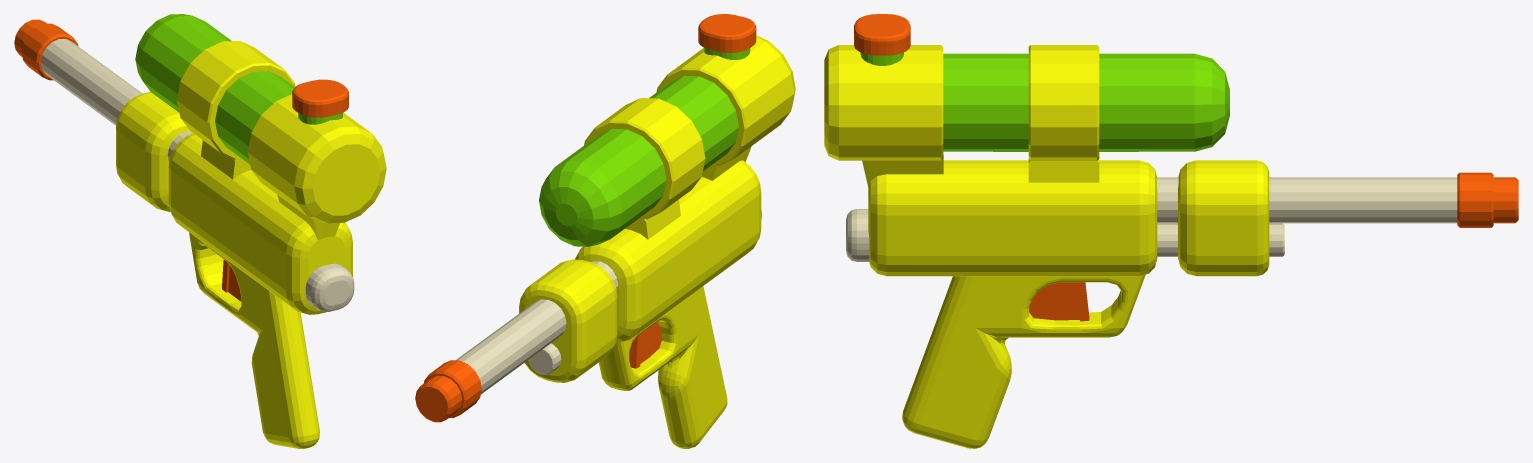
The model's file is gun.fbx.
3 views of the same model, side by side, from view 1: azimuth 30°, elevation 25°; view 2: azimuth 150°, elevation 25°; view 3: azimuth 270°, elevation 25° (orthographic). The views are drawn at different scales.
Visible parts, largest first — view 1: Cylinder.001; view 2: Cylinder.001; view 3: Cylinder.001.
Part boxes in pixels (<box>): Cylinder.001: <box>14,14,386,448</box>; Cylinder.001: <box>415,14,795,448</box>; Cylinder.001: <box>824,14,1518,448</box>.
Bounding box in the file's own units: 55.05 × 221 × 330.
